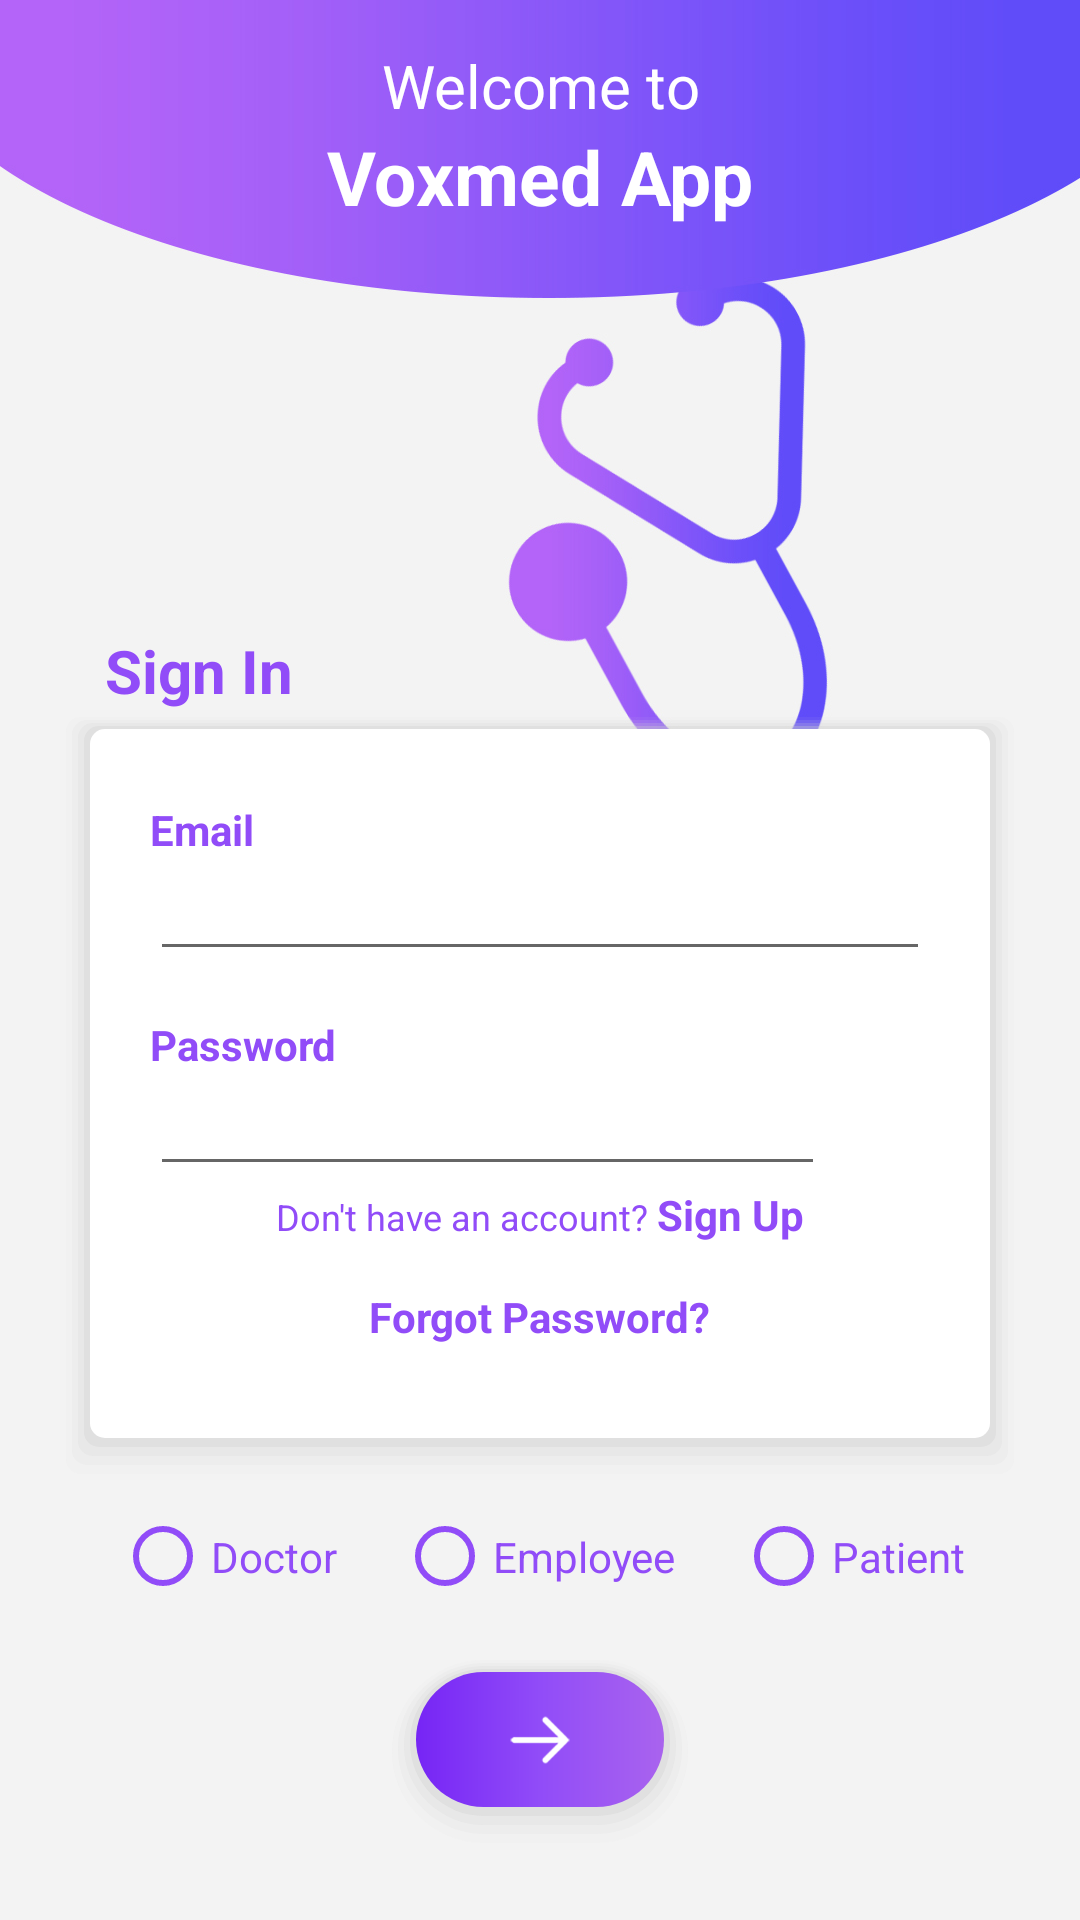

Point at icon controls on the screen. Image size 1080×1920, points as [x,y].
rightarrow: [540,1739]
